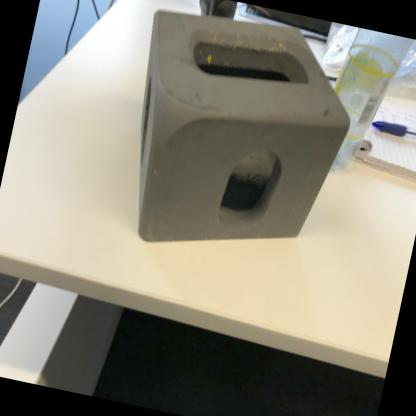CornerCasting: (96, 0, 364, 280)
